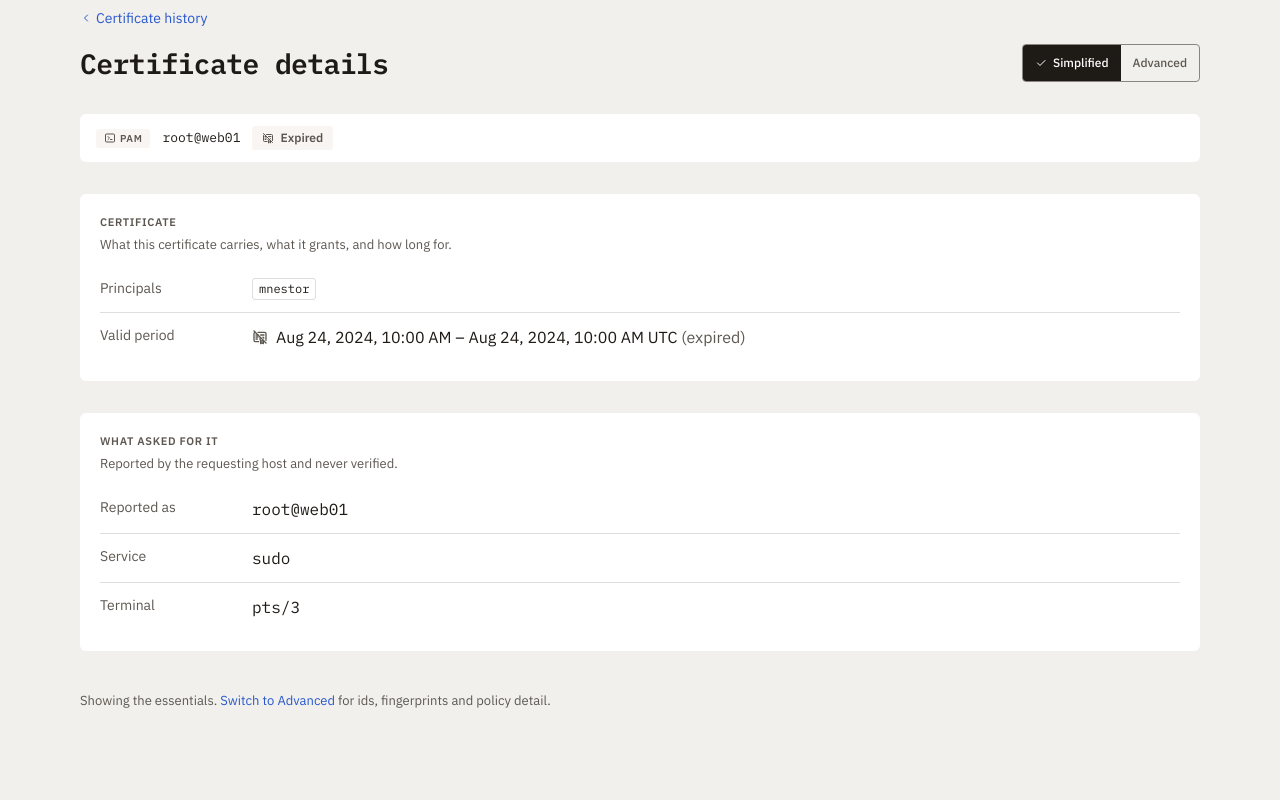
Test: at the simplified detail level › should show the key id again once the reader switches to Advanced
Step 1. Click the button with test id "detail-hint-advanced" → (278, 701), box [220, 683, 335, 719]
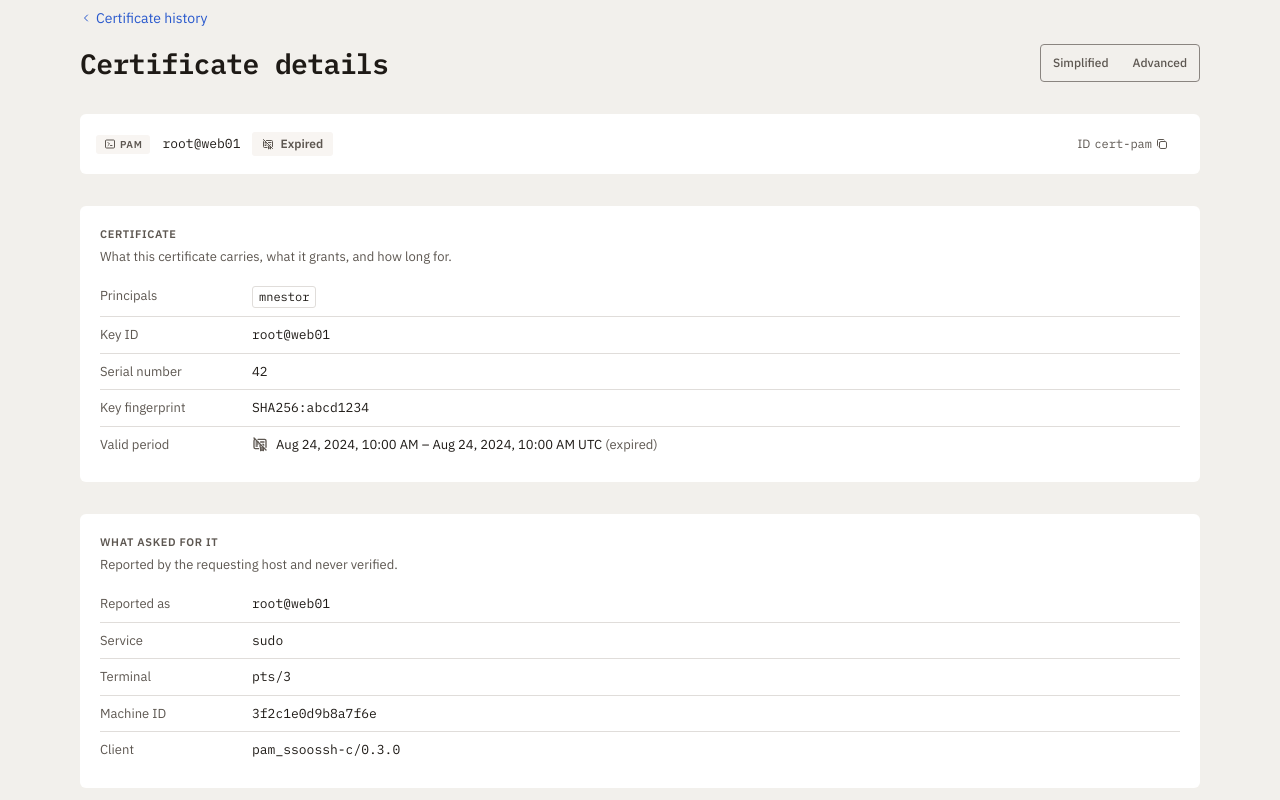
Expected: the text with test id "cert-key-id" is shown, [252, 326, 330, 343]
